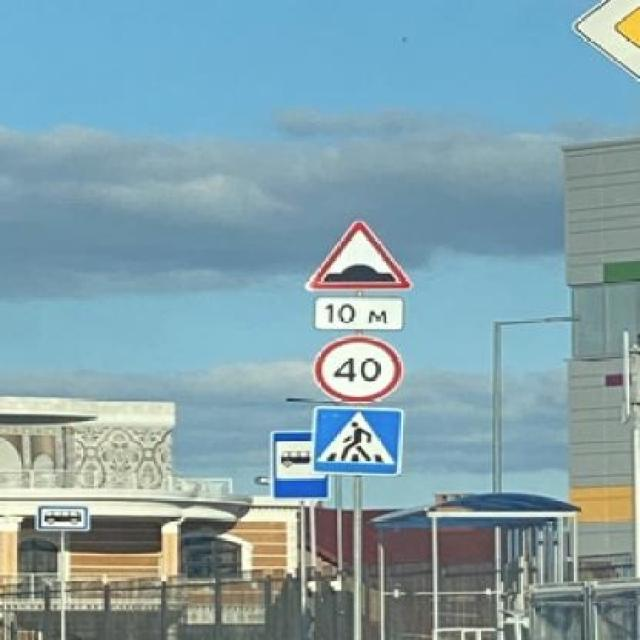forb_speed_over_40: (315, 335, 402, 403)
